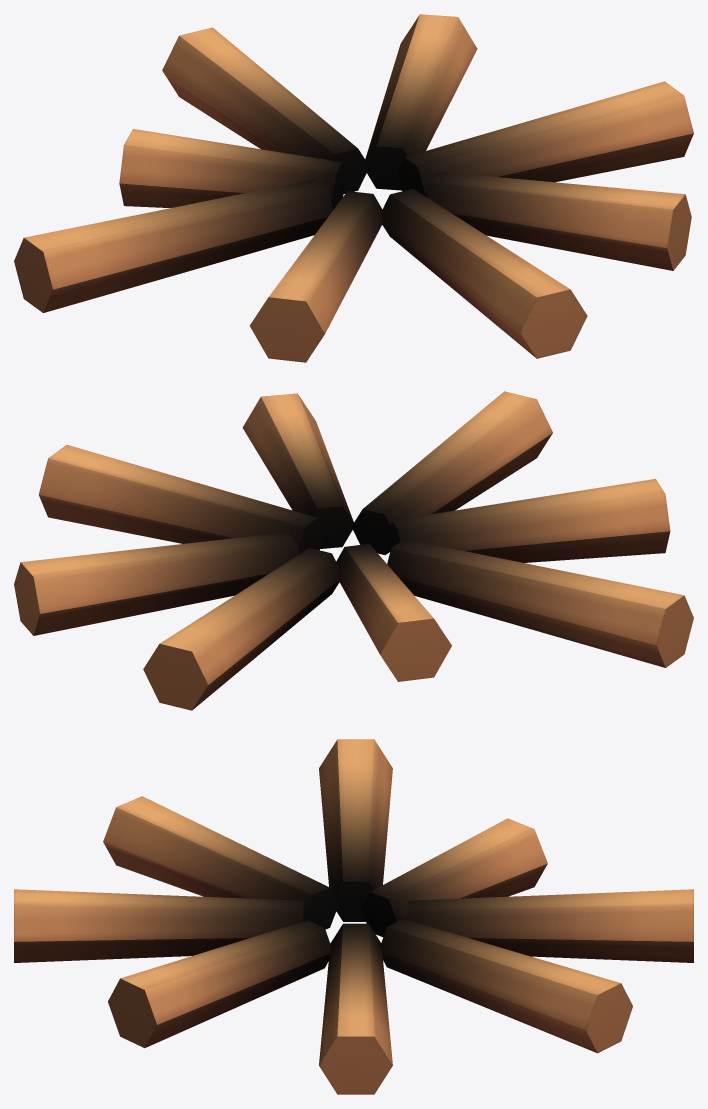
File: Takibi.fbx
3 renders of one model, top to bottom at view 1: azimuth 30°, elevation 25°; view 2: azimuth 150°, elevation 25°; view 3: azimuth 270°, elevation 25°, orthographic. The views are drawn at different scales.
Visible parts, largest first — view 1: Takibi; view 2: Takibi; view 3: Takibi.
Part boxes in pixels (<box>): Takibi: <box>14,14,693,362</box>; Takibi: <box>14,391,693,710</box>; Takibi: <box>14,739,693,1094</box>.
Bounding box in the file's own units: 294 × 26.86 × 285.
